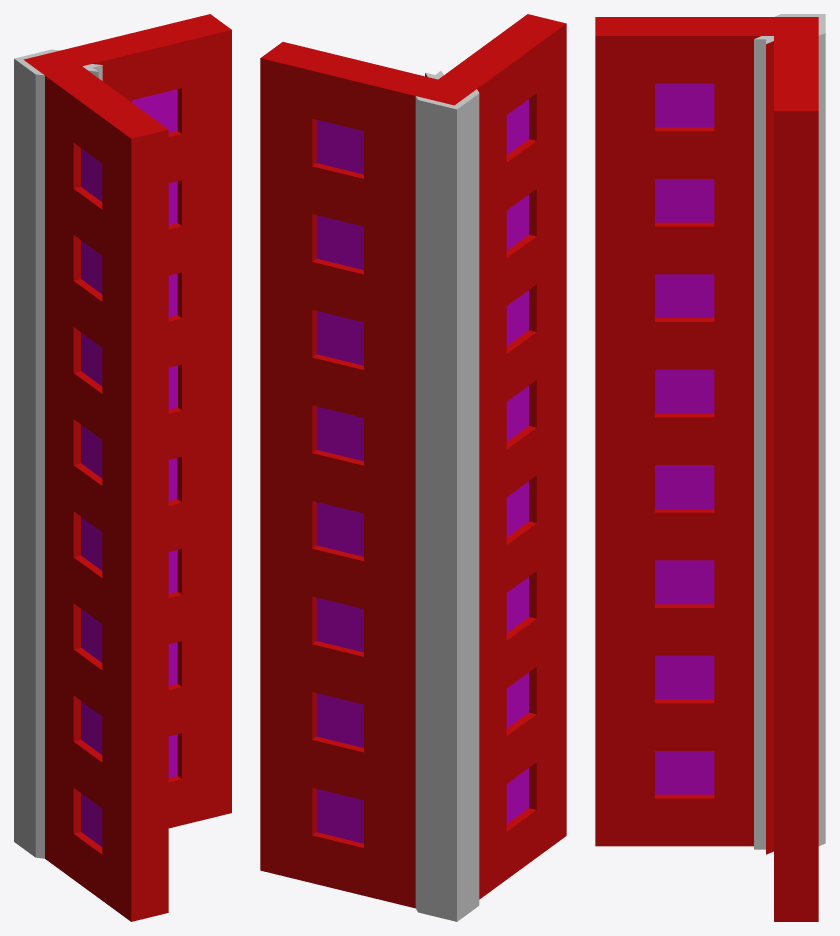
Rendered from corner_fixed.fbx.
The picture shows the model from 3 angles, left to right: view 1: azimuth 30°, elevation 25°; view 2: azimuth 150°, elevation 25°; view 3: azimuth 270°, elevation 25°; orthographic projection. The views are drawn at different scales.
Parts seen in each view (by area): view 1: Цилиндр; view 2: Цилиндр; view 3: Цилиндр.
Boxes of the visible parts, x1=… form: Цилиндр: x1=14, y1=14, x2=231, y2=921; Цилиндр: x1=260, y1=14, x2=566, y2=921; Цилиндр: x1=595, y1=14, x2=825, y2=921.
Size of the model in its own units: 25.78 by 100 by 25.78.
